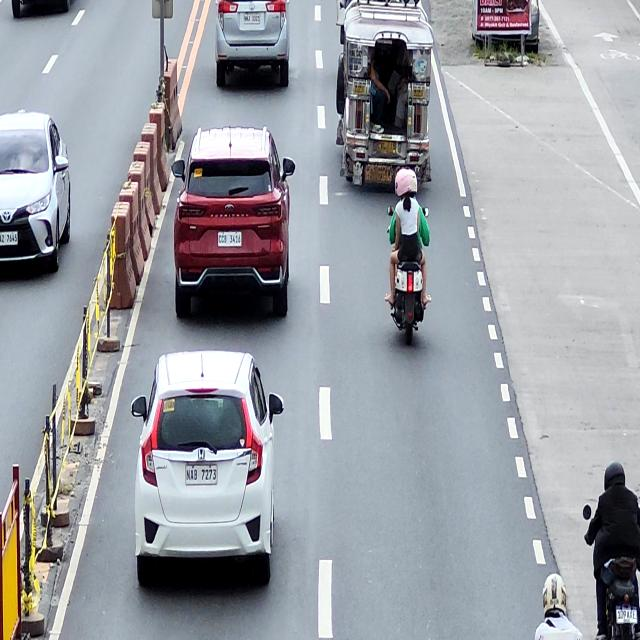Car: (131, 350, 284, 586), (172, 126, 296, 320), (0, 112, 71, 276), (214, 0, 290, 88)
Jeep: (334, 0, 433, 187)
License-Plate: (185, 464, 218, 486), (617, 605, 637, 624), (218, 232, 241, 246), (377, 141, 396, 154), (0, 231, 18, 244), (243, 13, 261, 25)
Motorcycle: (582, 502, 639, 640), (388, 206, 430, 346)
